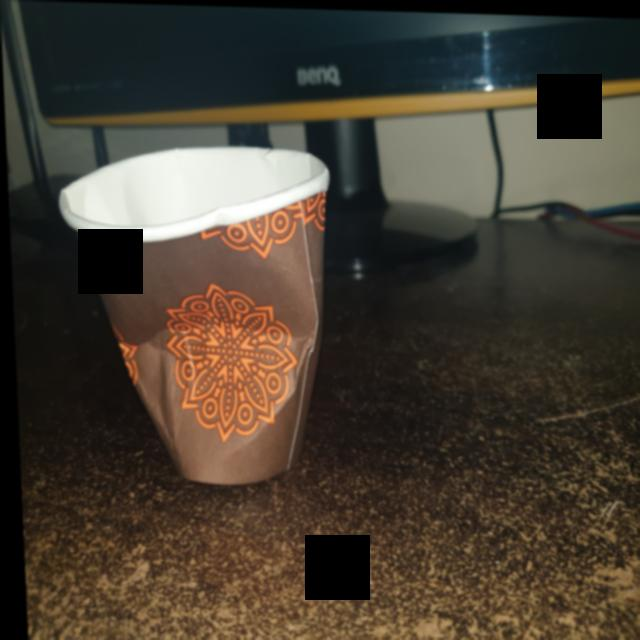cups: (53, 130, 345, 500)
